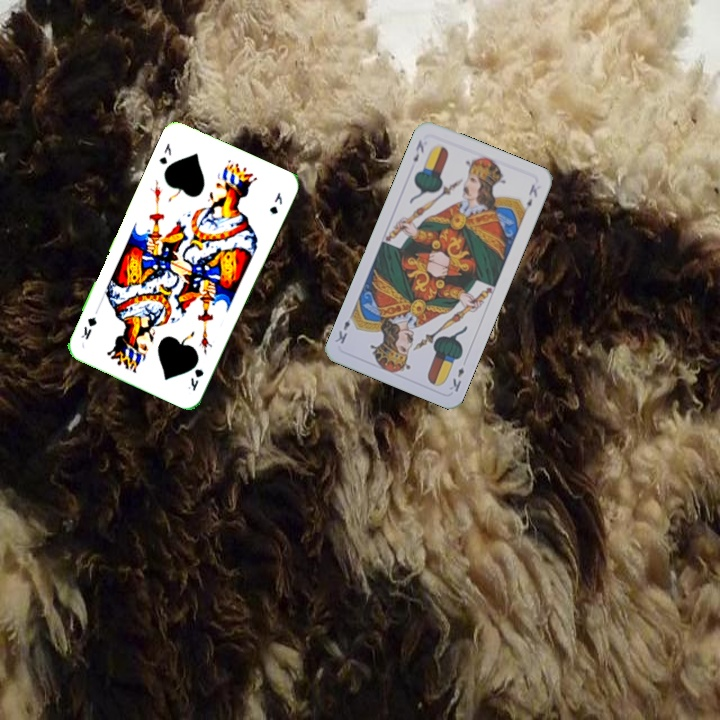EK: (445, 363, 467, 394), (409, 136, 427, 164)
GK: (184, 363, 206, 394), (155, 139, 174, 167)
